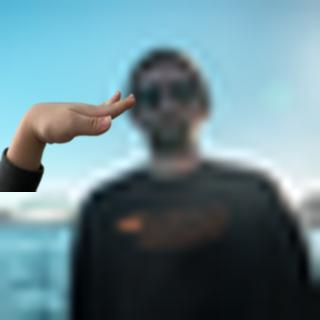Wait: (18, 81, 140, 145)
